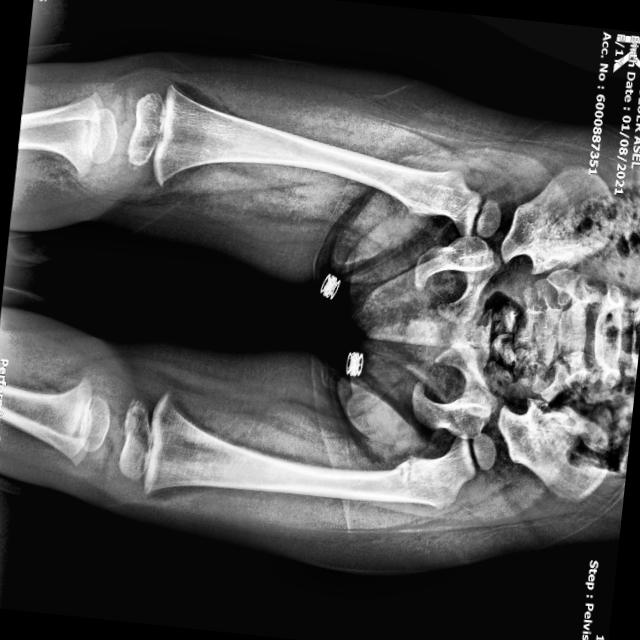Fracture: (378, 450, 424, 512)
